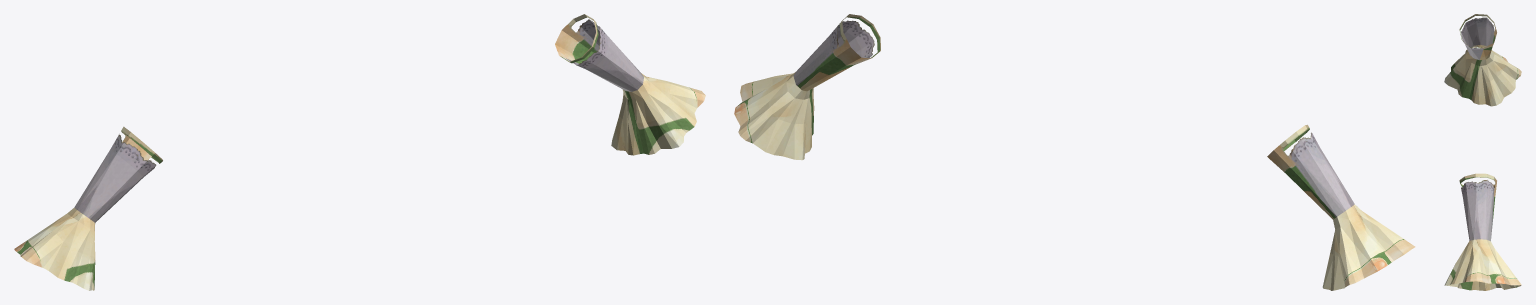
The model's file is skinSource0HOE.obj.
3 renders of one model, left to right at view 1: azimuth 30°, elevation 25°; view 2: azimuth 150°, elevation 25°; view 3: azimuth 270°, elevation 25°, orthographic. The views are drawn at different scales.
Parts seen in each view (by area): view 1: skinSource0HOE; view 2: skinSource0HOE; view 3: skinSource0HOE.
Boxes of the visible parts, x1,y1,x2,y2 form: skinSource0HOE: (14, 14, 705, 290); skinSource0HOE: (734, 14, 1415, 290); skinSource0HOE: (1444, 14, 1521, 290).
Size of the model in its own units: 93.42 by 19.35 by 13.03.
